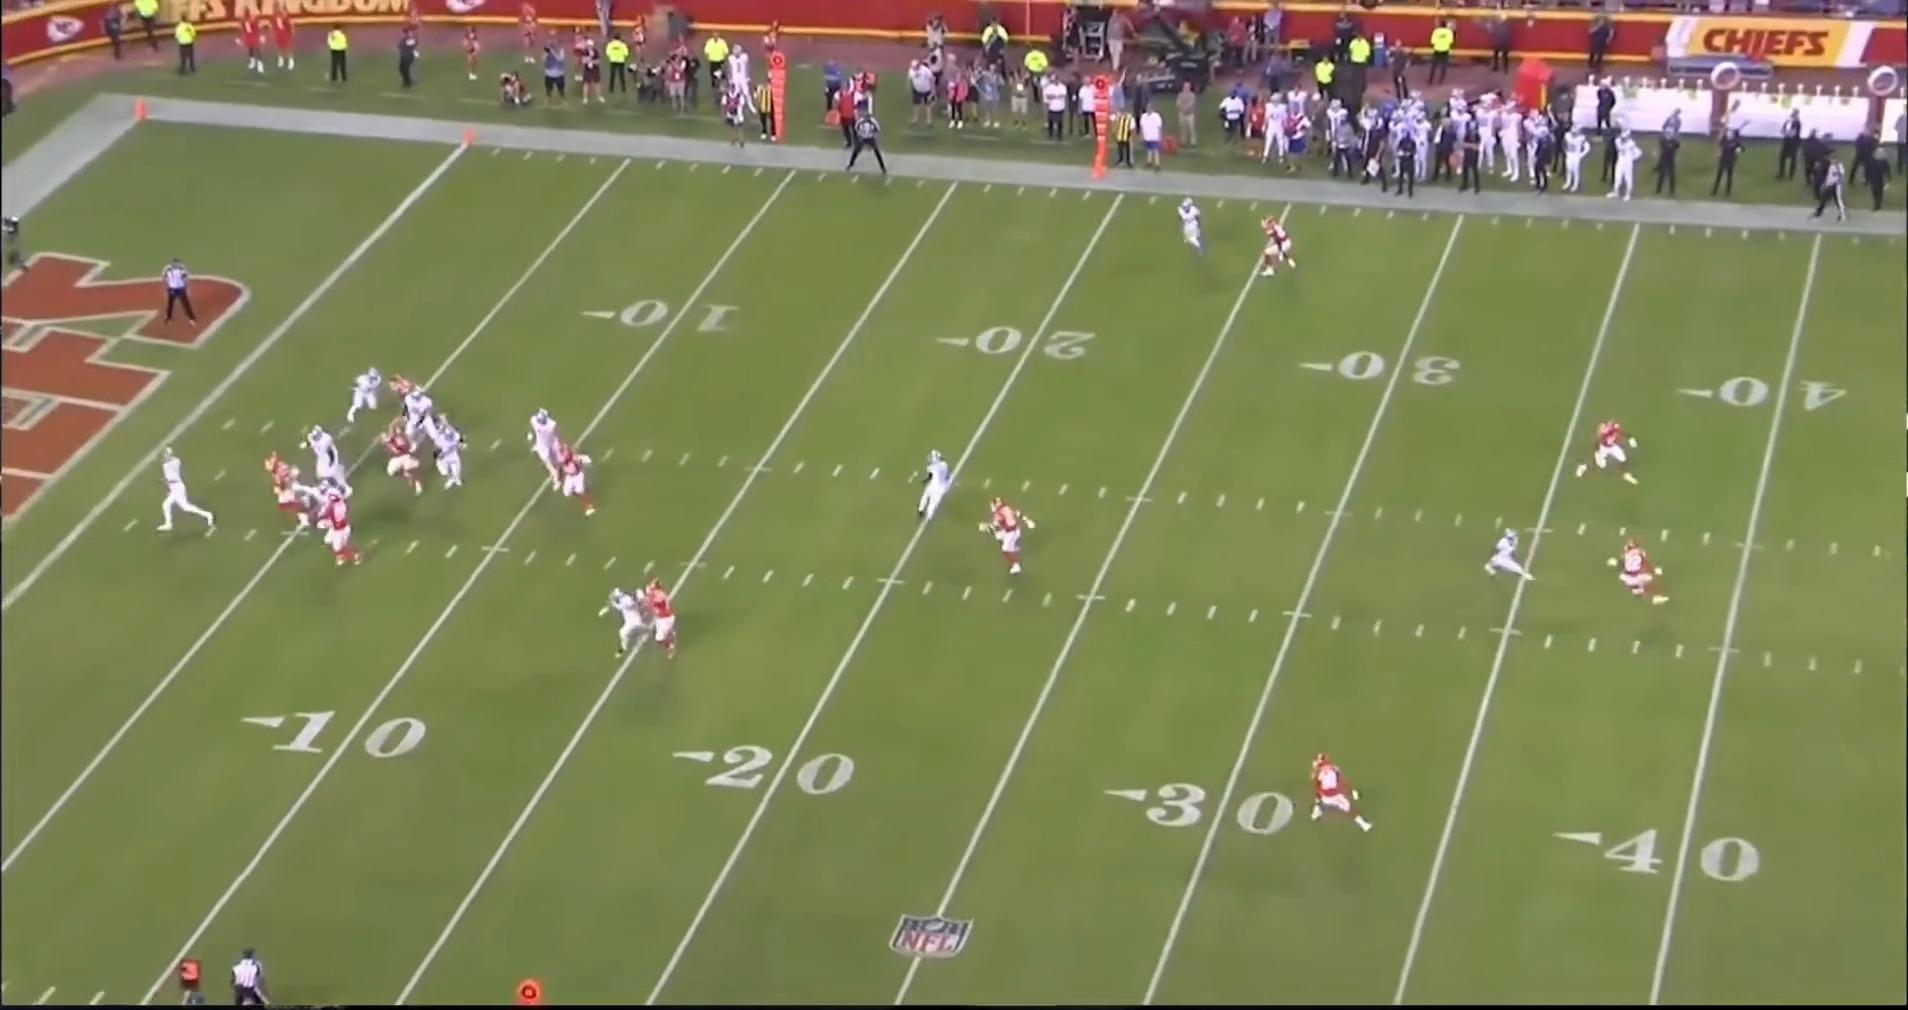player: (1303, 753, 1372, 840), (152, 445, 214, 536), (983, 490, 1040, 577), (1570, 411, 1635, 487), (1606, 539, 1670, 610), (597, 585, 647, 659), (913, 445, 958, 527), (637, 580, 680, 661), (1482, 526, 1536, 590), (382, 425, 430, 496), (558, 444, 603, 518), (322, 489, 363, 569), (527, 411, 568, 491), (299, 421, 349, 483), (429, 419, 471, 492), (296, 472, 346, 533), (1259, 216, 1304, 283), (263, 448, 307, 510), (1170, 196, 1209, 265), (343, 362, 383, 426), (400, 389, 437, 438), (388, 374, 427, 406)
ref: (155, 248, 200, 326), (840, 109, 888, 176), (1807, 154, 1850, 228), (229, 946, 277, 1007)
